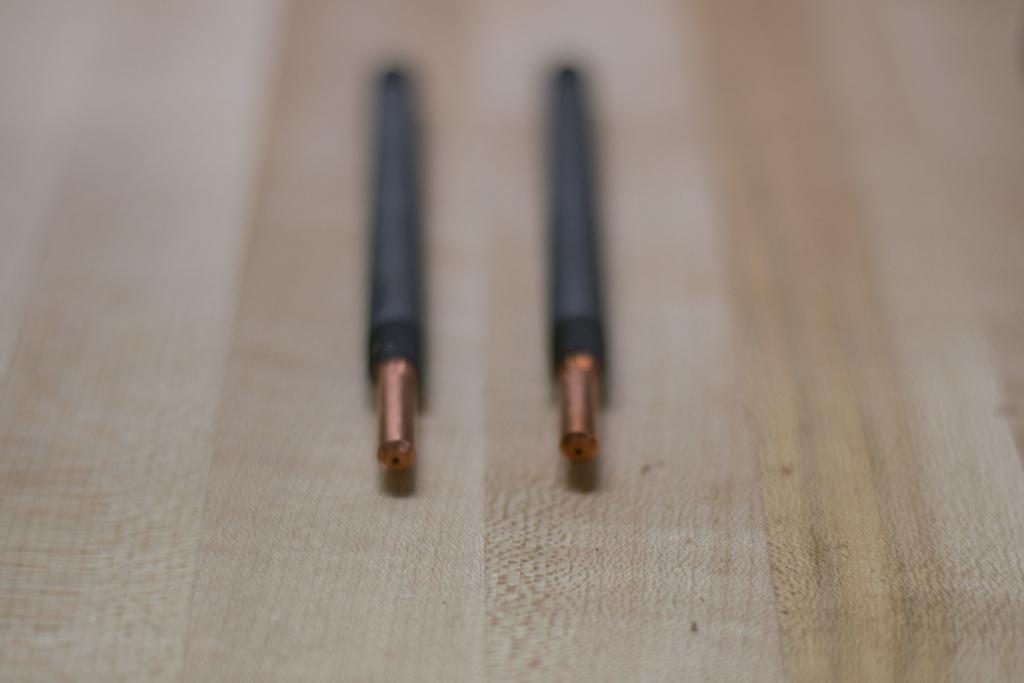pen: (546, 54, 616, 472), (366, 66, 415, 474)
